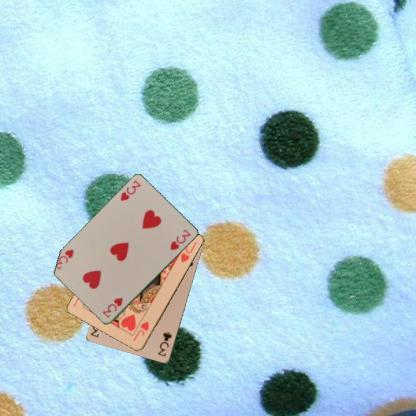3c: (156, 329, 173, 358)
3h: (100, 295, 124, 320), (118, 178, 142, 202)
Jh: (130, 319, 150, 343)
